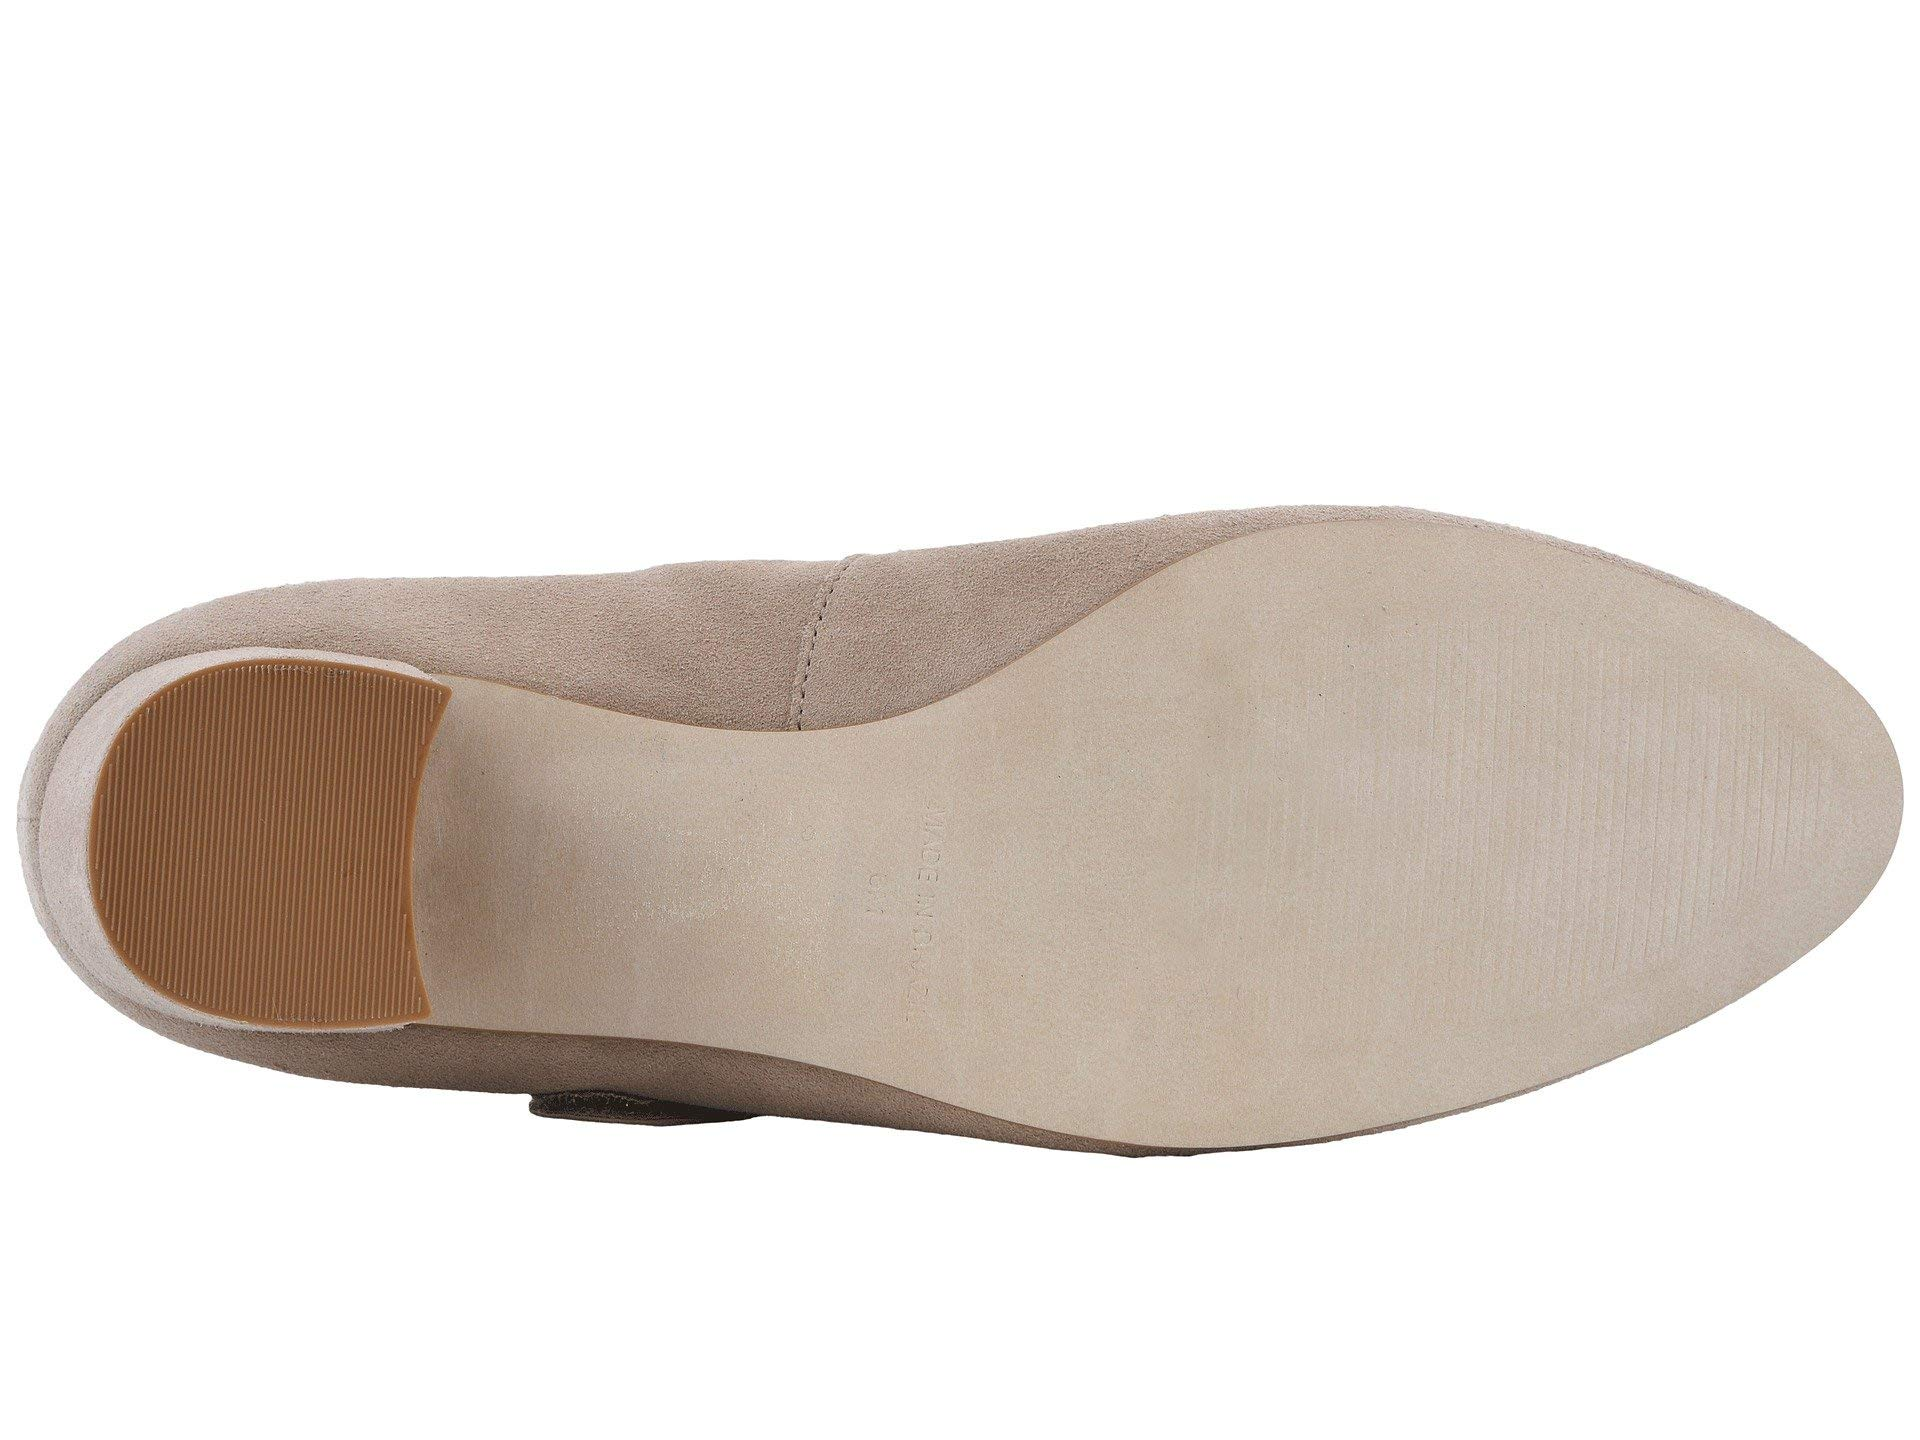line: (153, 696, 361, 983)
text: (794, 765, 1039, 1033)
